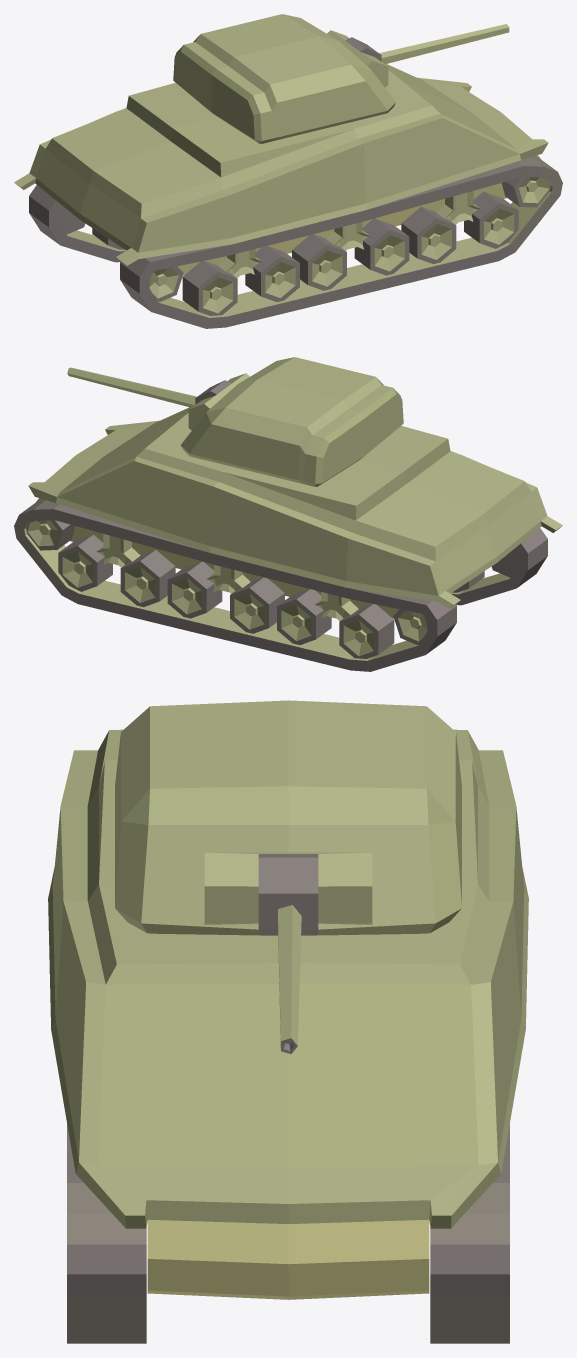
3 renders of one model, top to bottom at view 1: azimuth 30°, elevation 25°; view 2: azimuth 150°, elevation 25°; view 3: azimuth 270°, elevation 25°, orthographic. The views are drawn at different scales.
Parts seen in each view (by area): view 1: TankBody, TankTurretHead, TankTreads, TankWheels(all).5, TankBarrel, TankWheels(all).0, TankWheels(all).2, TankWheels(all).3, TankWheels(all).4, TankWheels(all).1, TankWheels(all).7, TankWheels(all).6 (+3 smaller); view 2: TankBody, TankTurretHead, TankTreads, TankWheels(all).5, TankBarrel, TankWheels(all).0, TankWheels(all).2, TankWheels(all).3, TankWheels(all).4, TankWheels(all).1, TankWheels(all).7, TankWheels(all).6 (+3 smaller); view 3: TankBody, TankTurretHead, TankTreads, TankBarrel.
Boxes of the visible parts, x1=… form: TankBody: x1=14, y1=64, x2=548, y2=275; TankTurretHead: x1=173, y1=14, x2=396, y2=143; TankTreads: x1=29, y1=156, x2=562, y2=328; TankWheels(all).5: x1=92, y1=228, x2=237, y2=315; TankBarrel: x1=327, y1=24, x2=509, y2=87; TankWheels(all).0: x1=401, y1=207, x2=456, y2=264; TankWheels(all).2: x1=354, y1=218, x2=409, y2=275; TankWheels(all).3: x1=292, y1=234, x2=346, y2=290; TankWheels(all).4: x1=245, y1=246, x2=299, y2=301; TankWheels(all).1: x1=464, y1=191, x2=518, y2=248; TankWheels(all).7: x1=58, y1=206, x2=183, y2=301; TankWheels(all).6: x1=501, y1=177, x2=550, y2=207; TankBody: x1=28, y1=407, x2=562, y2=618; TankTurretHead: x1=180, y1=357, x2=403, y2=486; TankTreads: x1=14, y1=499, x2=547, y2=671; TankWheels(all).5: x1=339, y1=571, x2=484, y2=658; TankBarrel: x1=67, y1=367, x2=249, y2=430; TankWheels(all).0: x1=120, y1=550, x2=175, y2=607; TankWheels(all).2: x1=167, y1=561, x2=222, y2=618; TankWheels(all).3: x1=230, y1=577, x2=284, y2=633; TankWheels(all).4: x1=277, y1=589, x2=331, y2=644; TankWheels(all).1: x1=58, y1=534, x2=112, y2=591; TankWheels(all).7: x1=393, y1=549, x2=518, y2=644; TankWheels(all).6: x1=26, y1=520, x2=75, y2=550; TankBody: x1=48, y1=729, x2=528, y2=1299; TankTurretHead: x1=115, y1=700, x2=461, y2=935; TankTreads: x1=67, y1=1124, x2=509, y2=1343; TankBarrel: x1=204, y1=852, x2=372, y2=1054.
Size of the model in its own units: 1.99 by 0.9191 by 0.9331.
